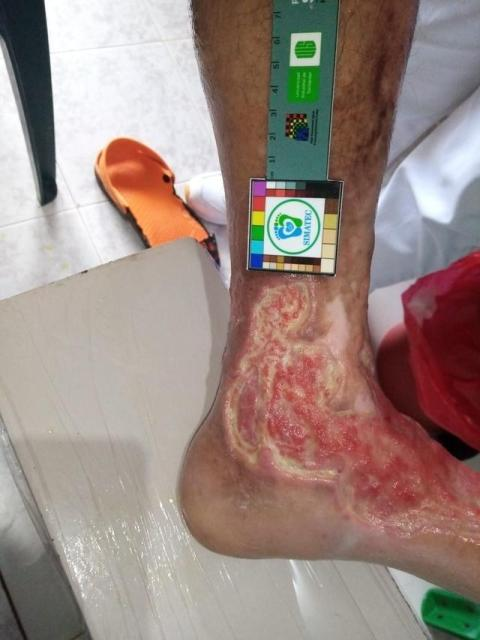wound: (227, 284, 480, 541)
